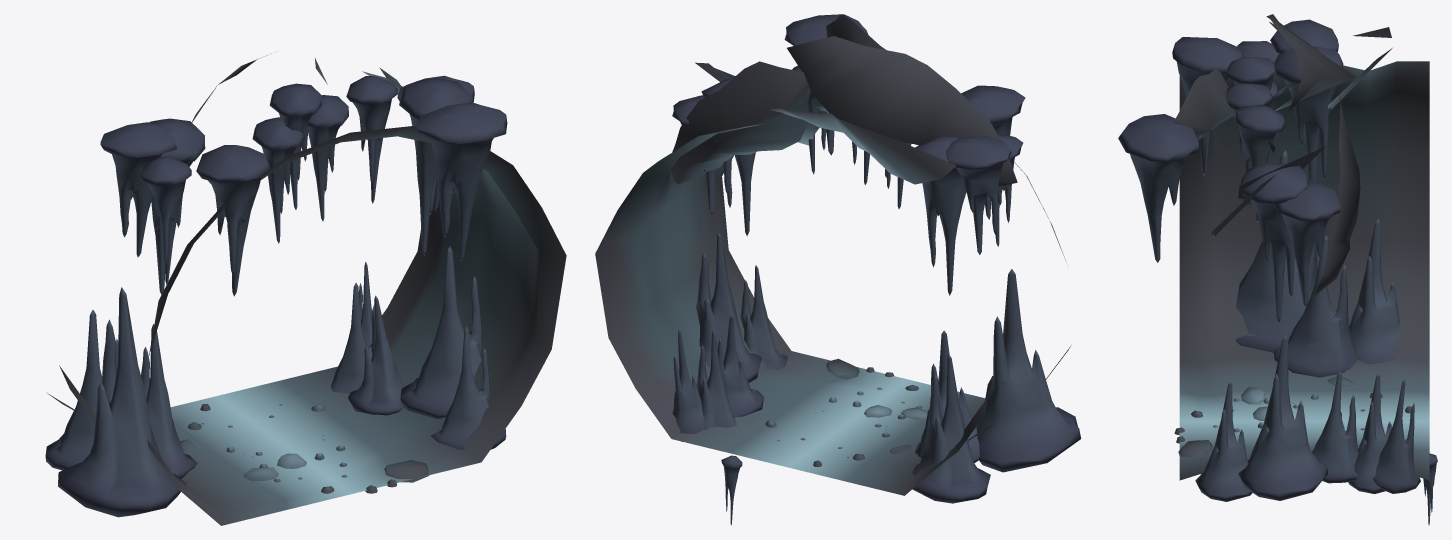
Rendered from Arctic_Tunnels_Straight_Short_A.glb.
The picture shows the model from 3 angles, left to right: view 1: azimuth 30°, elevation 25°; view 2: azimuth 150°, elevation 25°; view 3: azimuth 270°, elevation 25°; orthographic projection. The views are drawn at different scales.
Parts seen in each view (by area): view 1: Arctic_Tunnels_Straight_Short_A, Arctic_Tunnels_Icicle_Shadow_A02 (13), Arctic_Tunnels_Icicle_Shadow_A02 (4), Arctic_Tunnels_Icicle_Shadow_A02 (9), Arctic_Tunnels_Icicle_Shadow_A02 (2), Arctic_Tunnels_Icicle_Shadow_A02 (6), Arctic_Tunnels_Icicle_Shadow_A02 (17), Arctic_Tunnels_Icicle_Shadow_A02 (8), Arctic_Tunnels_Icicle_Shadow_A02 (10), Arctic_Tunnels_Icicle_Shadow_A02 (5), Arctic_Tunnels_Icicle_Shadow_A02 (12), Arctic_Tunnels_Icicle_Shadow_A02 (+7 smaller); view 2: Arctic_Tunnels_Straight_Short_A, Arctic_Tunnels_Icicle_Shadow_A02 (13), Arctic_Tunnels_Icicle_Shadow_A02 (8), Arctic_Tunnels_Icicle_Shadow_A02 (9), Arctic_Tunnels_Icicle_Shadow_A02 (6), Arctic_Tunnels_Icicle_Shadow_A02 (18), Arctic_Tunnels_Icicle_Shadow_A02 (12), Arctic_Tunnels_Icicle_Shadow_A02 (11), Arctic_Tunnels_Icicle_Shadow_A02 (10), Arctic_Tunnels_Icicle_Shadow_A02 (2), Arctic_Tunnels_Icicle_Shadow_A02 (3), Arctic_Tunnels_Icicle_Shadow_A02 (5) (+5 smaller); view 3: Arctic_Tunnels_Straight_Short_A, Arctic_Tunnels_Icicle_Shadow_A02 (9), Arctic_Tunnels_Icicle_Shadow_A02 (4), Arctic_Tunnels_Icicle_Shadow_A02 (5), Arctic_Tunnels_Icicle_Shadow_A02 (13), Arctic_Tunnels_Icicle_Shadow_A02 (17), Arctic_Tunnels_Icicle_Shadow_A02 (8), Arctic_Tunnels_Icicle_Shadow_A02 (7), Arctic_Tunnels_Icicle_Shadow_A02 (18), Arctic_Tunnels_Icicle_Shadow_A02 (12), Arctic_Tunnels_Icicle_Shadow_A02 (10), Arctic_Tunnels_Icicle_Shadow_A02 (2) (+8 smaller).
Boxes of the visible parts, x1=… form: Arctic_Tunnels_Straight_Short_A: x1=46, y1=53, x2=566, y2=525; Arctic_Tunnels_Icicle_Shadow_A02 (13): x1=58, y1=287, x2=186, y2=517; Arctic_Tunnels_Icicle_Shadow_A02 (4): x1=416, y1=102, x2=507, y2=260; Arctic_Tunnels_Icicle_Shadow_A02 (9): x1=400, y1=246, x2=482, y2=419; Arctic_Tunnels_Icicle_Shadow_A02 (2): x1=196, y1=145, x2=270, y2=296; Arctic_Tunnels_Icicle_Shadow_A02 (6): x1=100, y1=122, x2=176, y2=257; Arctic_Tunnels_Icicle_Shadow_A02 (17): x1=399, y1=78, x2=471, y2=256; Arctic_Tunnels_Icicle_Shadow_A02 (8): x1=45, y1=310, x2=118, y2=470; Arctic_Tunnels_Icicle_Shadow_A02 (10): x1=348, y1=295, x2=403, y2=415; Arctic_Tunnels_Icicle_Shadow_A02 (5): x1=141, y1=324, x2=197, y2=478; Arctic_Tunnels_Icicle_Shadow_A02 (12): x1=431, y1=326, x2=506, y2=449; Arctic_Tunnels_Icicle_Shadow_A02: x1=140, y1=156, x2=191, y2=284; Arctic_Tunnels_Straight_Short_A: x1=595, y1=14, x2=1071, y2=495; Arctic_Tunnels_Icicle_Shadow_A02 (13): x1=976, y1=269, x2=1080, y2=472; Arctic_Tunnels_Icicle_Shadow_A02 (8): x1=912, y1=354, x2=990, y2=503; Arctic_Tunnels_Icicle_Shadow_A02 (9): x1=696, y1=232, x2=761, y2=382; Arctic_Tunnels_Icicle_Shadow_A02 (6): x1=946, y1=136, x2=1011, y2=254; Arctic_Tunnels_Icicle_Shadow_A02 (18): x1=915, y1=136, x2=966, y2=295; Arctic_Tunnels_Icicle_Shadow_A02 (12): x1=740, y1=265, x2=787, y2=370; Arctic_Tunnels_Icicle_Shadow_A02 (11): x1=696, y1=330, x2=736, y2=427; Arctic_Tunnels_Icicle_Shadow_A02 (10): x1=717, y1=315, x2=763, y2=417; Arctic_Tunnels_Icicle_Shadow_A02 (2): x1=961, y1=85, x2=1025, y2=219; Arctic_Tunnels_Icicle_Shadow_A02 (3): x1=672, y1=329, x2=708, y2=441; Arctic_Tunnels_Icicle_Shadow_A02 (5): x1=915, y1=330, x2=979, y2=462; Arctic_Tunnels_Straight_Short_A: x1=1174, y1=14, x2=1429, y2=480; Arctic_Tunnels_Icicle_Shadow_A02 (9): x1=1238, y1=335, x2=1327, y2=500; Arctic_Tunnels_Icicle_Shadow_A02 (4): x1=1118, y1=114, x2=1198, y2=262; Arctic_Tunnels_Icicle_Shadow_A02 (5): x1=1273, y1=235, x2=1356, y2=377; Arctic_Tunnels_Icicle_Shadow_A02 (13): x1=1235, y1=150, x2=1317, y2=352; Arctic_Tunnels_Icicle_Shadow_A02 (17): x1=1240, y1=163, x2=1309, y2=322; Arctic_Tunnels_Icicle_Shadow_A02 (8): x1=1349, y1=219, x2=1399, y2=364; Arctic_Tunnels_Icicle_Shadow_A02 (7): x1=1273, y1=180, x2=1340, y2=306; Arctic_Tunnels_Icicle_Shadow_A02 (18): x1=1274, y1=46, x2=1343, y2=181; Arctic_Tunnels_Icicle_Shadow_A02 (12): x1=1195, y1=381, x2=1252, y2=501; Arctic_Tunnels_Icicle_Shadow_A02 (10): x1=1312, y1=371, x2=1358, y2=483; Arctic_Tunnels_Icicle_Shadow_A02 (2): x1=1172, y1=37, x2=1243, y2=175.
Bounding box in the file's own units: 9.6 × 10.36 × 6.4.
